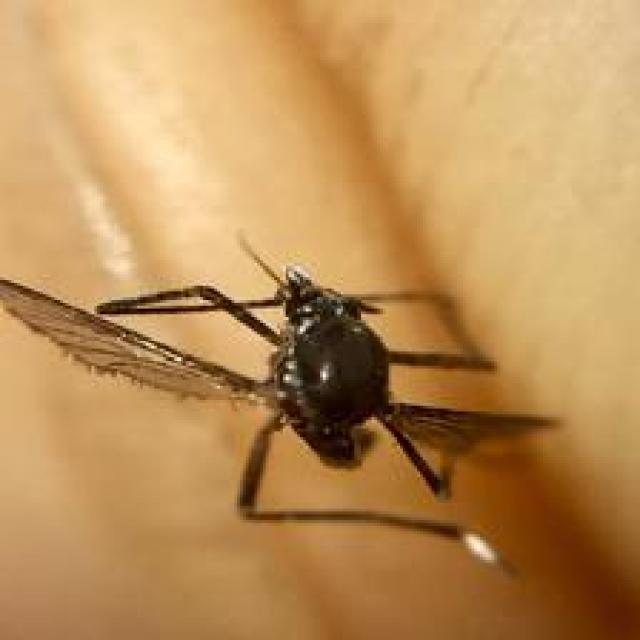Aedes albopictus: (0, 229, 563, 580)
